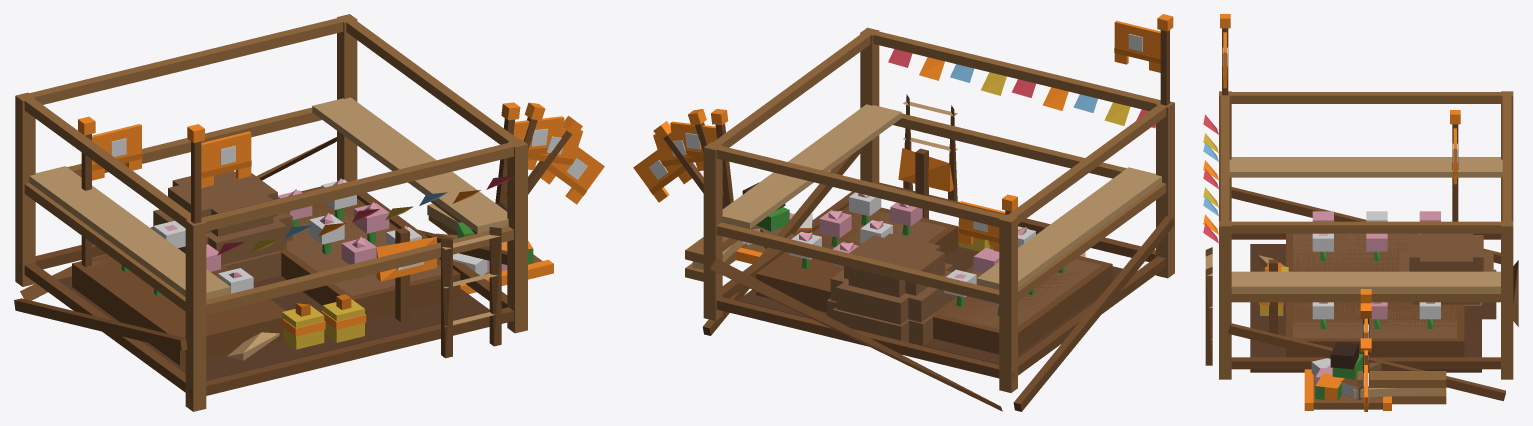
The model's file is bumblebee-producer.glb.
3 renders of one model, left to right at view 1: azimuth 30°, elevation 25°; view 2: azimuth 150°, elevation 25°; view 3: azimuth 270°, elevation 25°, orthographic. The views are drawn at different scales.
Visible parts, largest first — view 1: scaffold-mesh, built-mesh, dismantle-75-mesh, dismantle-25-mesh, scaffold-banner, dismantle-25-banner, banner, dismantle-50-banner, scaffold-flag-pole, flag-pole, dismantle-75-banner, dismantle-50-mesh (+3 smaller); view 2: scaffold-mesh, built-mesh, dismantle-75-mesh, dismantle-50-mesh, scaffold-banner, dismantle-25-banner, dismantle-25-mesh, banner, dismantle-75-banner, scaffold-flag-pole, dismantle-50-banner, dismantle-75-flag-pole (+1 smaller); view 3: scaffold-mesh, built-mesh, dismantle-25-mesh, dismantle-75-mesh, dismantle-50-mesh, flag-pole, scaffold-flag-pole.
Part boxes in pixels (x1,y1,x2,y2): scaffold-mesh: (14, 14, 527, 411); built-mesh: (121, 171, 460, 358); dismantle-75-mesh: (125, 190, 549, 338); dismantle-25-mesh: (180, 203, 553, 380); scaffold-banner: (201, 131, 251, 187); dismantle-25-banner: (541, 140, 604, 204); banner: (92, 124, 142, 180); dismantle-50-banner: (528, 125, 582, 174); scaffold-flag-pole: (187, 124, 204, 223); flag-pole: (78, 116, 95, 266); dismantle-75-banner: (513, 116, 564, 156); dismantle-50-mesh: (236, 248, 533, 328); scaffold-mesh: (685, 27, 1174, 411); built-mesh: (789, 148, 1035, 340); dismantle-75-mesh: (736, 198, 1035, 354); dismantle-50-mesh: (743, 228, 999, 353); scaffold-banner: (1114, 20, 1160, 72); dismantle-25-banner: (633, 144, 692, 202); dismantle-25-mesh: (736, 182, 1085, 364); banner: (959, 201, 1005, 251); dismantle-75-banner: (670, 121, 716, 159); scaffold-flag-pole: (1157, 14, 1173, 105); dismantle-50-banner: (653, 131, 703, 175); dismantle-75-flag-pole: (711, 109, 733, 207); scaffold-mesh: (1203, 91, 1518, 404); built-mesh: (1262, 211, 1483, 334); dismantle-25-mesh: (1258, 255, 1391, 410); dismantle-75-mesh: (1265, 211, 1496, 410); dismantle-50-mesh: (1260, 303, 1496, 409); flag-pole: (1450, 110, 1460, 221); scaffold-flag-pole: (1220, 14, 1230, 95).
Bounding box in the file's own units: 2.7 × 1.55 × 1.77.
